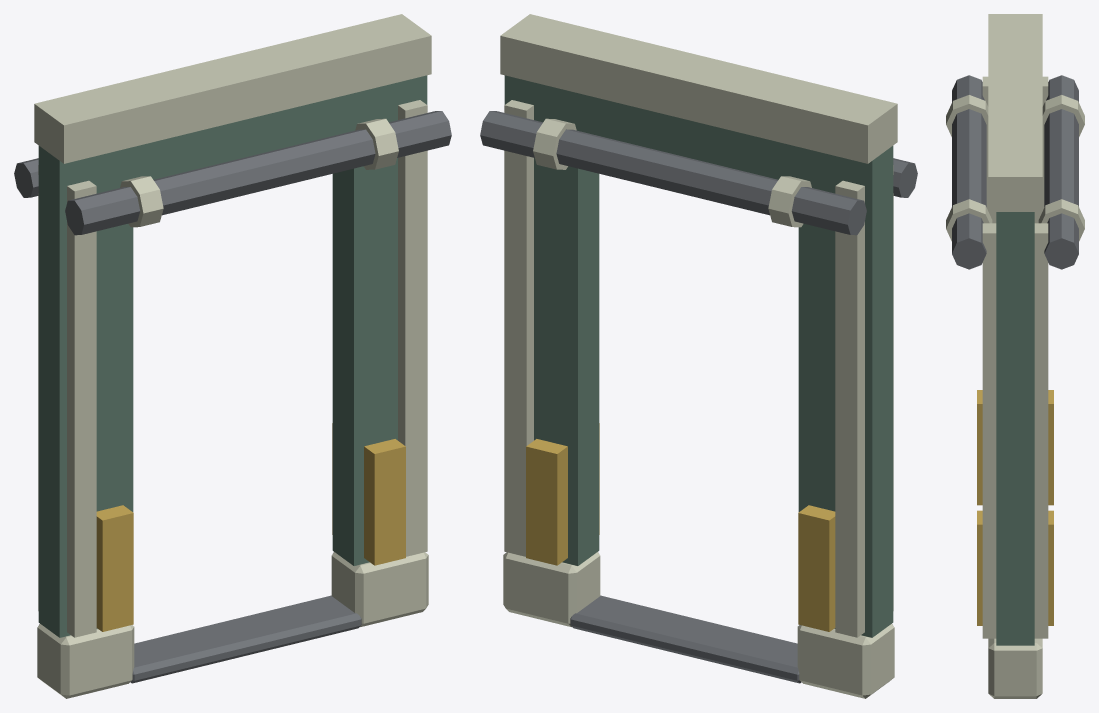
File: installation-dispersal-wall-door.glb
3 views of the same model, side by side, from view 1: azimuth 30°, elevation 25°; view 2: azimuth 150°, elevation 25°; view 3: azimuth 270°, elevation 25° (orthographic). The views are drawn at different scales.
Visible parts, largest first — view 1: jamb_l, cornice, jamb_r, process_pipe, cladding_rib, cladding_rib.002, threshold, lintel, plinth_l, plinth_r, door_guard.002, door_guard (+3 smaller); view 2: jamb_l, cornice, jamb_r, process_pipe.001, cladding_rib.001, cladding_rib.003, threshold, lintel, plinth_l, plinth_r, door_guard.003, door_guard.001 (+3 smaller); view 3: jamb_r, cornice, cladding_rib.002, cladding_rib.003, process_pipe, process_pipe.001, plinth_r, pipe_collar, pipe_collar.002, pipe_collar.001, pipe_collar.003, door_guard (+5 smaller).
Boxes of the visible parts, bbox=[...] form: jamb_l: bbox=[38, 146, 133, 637]; cornice: bbox=[34, 14, 431, 163]; jamb_r: bbox=[332, 75, 427, 565]; process_pipe: bbox=[65, 111, 451, 235]; cladding_rib: bbox=[67, 180, 96, 637]; cladding_rib.002: bbox=[398, 100, 427, 556]; threshold: bbox=[130, 595, 361, 683]; lintel: bbox=[133, 93, 353, 179]; plinth_l: bbox=[37, 624, 134, 698]; plinth_r: bbox=[331, 552, 428, 626]; door_guard.002: bbox=[364, 439, 405, 565]; door_guard: bbox=[96, 505, 133, 631]; jamb_l: bbox=[798, 146, 893, 637]; cornice: bbox=[500, 14, 897, 163]; jamb_r: bbox=[504, 75, 599, 565]; process_pipe.001: bbox=[480, 111, 866, 235]; cladding_rib.001: bbox=[835, 180, 864, 637]; cladding_rib.003: bbox=[504, 100, 533, 556]; threshold: bbox=[570, 595, 801, 683]; lintel: bbox=[578, 93, 798, 179]; plinth_l: bbox=[797, 624, 894, 698]; plinth_r: bbox=[503, 552, 600, 626]; door_guard.003: bbox=[526, 439, 567, 565]; door_guard.001: bbox=[798, 505, 835, 631]; jamb_r: bbox=[996, 212, 1034, 645]; cornice: bbox=[988, 14, 1042, 211]; cladding_rib.002: bbox=[982, 223, 996, 638]; cladding_rib.003: bbox=[1034, 223, 1048, 638]; process_pipe: bbox=[952, 75, 986, 269]; process_pipe.001: bbox=[1044, 75, 1078, 269]; plinth_r: bbox=[988, 638, 1042, 698]; pipe_collar: bbox=[946, 95, 988, 136]; pipe_collar.002: bbox=[1042, 95, 1084, 136]; pipe_collar.001: bbox=[946, 199, 992, 241]; pipe_collar.003: bbox=[1038, 199, 1084, 241]; door_guard: bbox=[977, 390, 982, 505].
Size of the model in its own units: 1 by 1.5 by 0.36.
